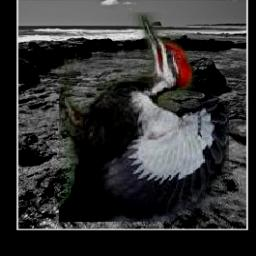Woodpecker: (59, 12, 229, 222)
